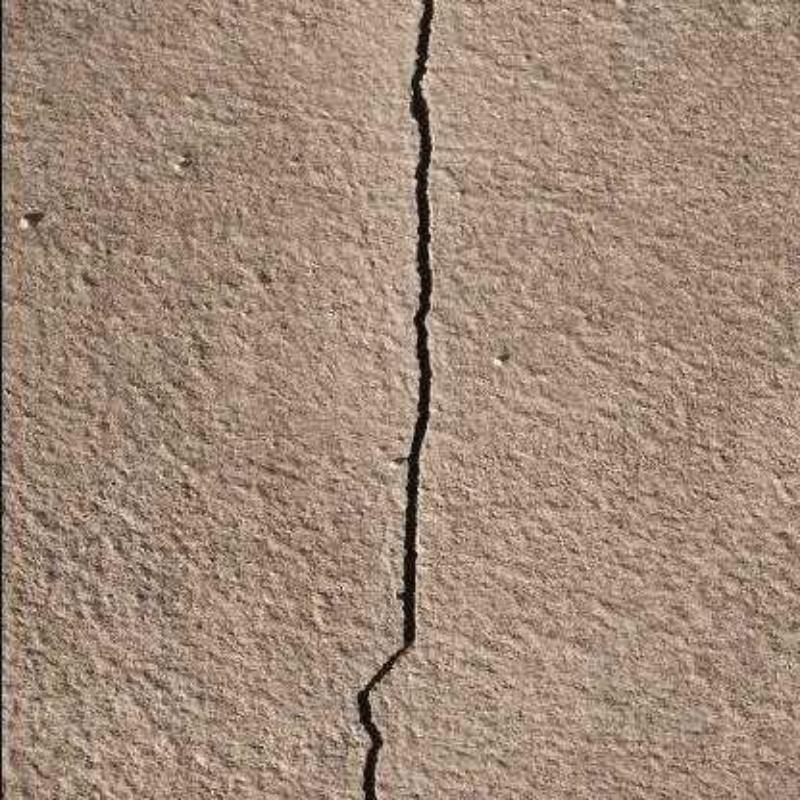pothole: (354, 0, 433, 800)
